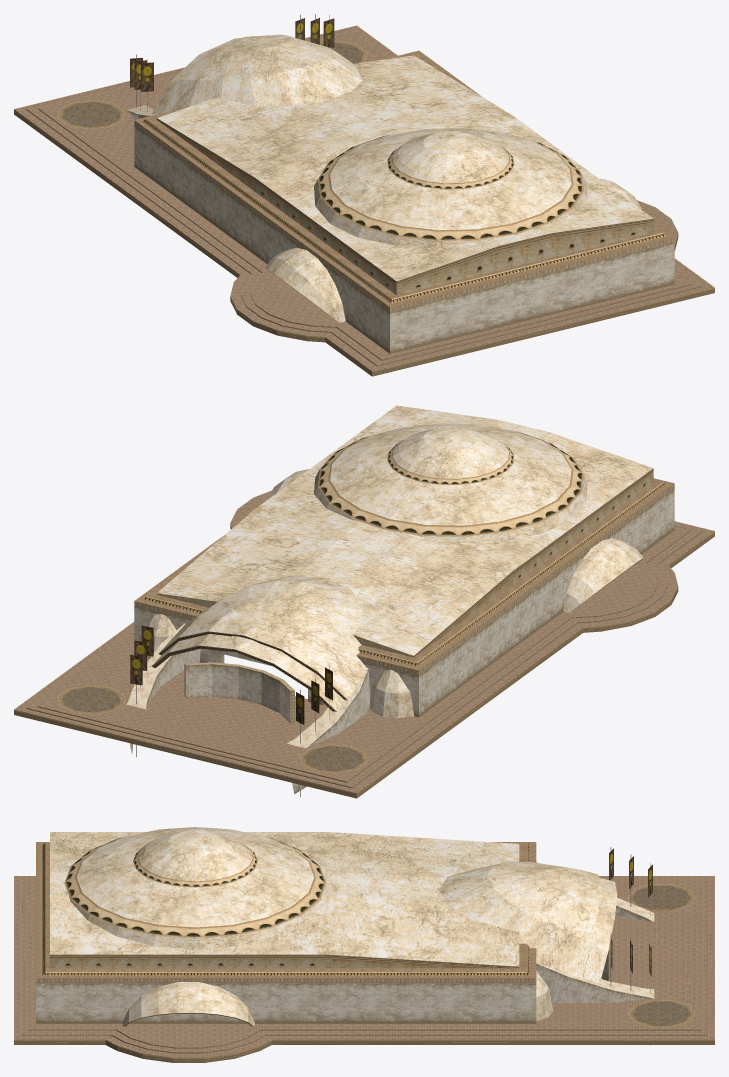
The model's file is mun_tato_guild_theater_s01_r0_mesh_l1.fbx.
3 views of the same model, one above another, from view 1: azimuth 30°, elevation 25°; view 2: azimuth 150°, elevation 25°; view 3: azimuth 270°, elevation 25° (orthographic). The views are drawn at different scales.
Visible parts, largest first — view 1: mesh_node; view 2: mesh_node; view 3: mesh_node.
Boxes of the visible parts, left/top/right/bottom form: mesh_node: left=14, top=14, right=714, bottom=376; mesh_node: left=14, top=405, right=714, bottom=798; mesh_node: left=14, top=827, right=714, bottom=1062.
Bounding box in the file's own units: 81.75 × 32.27 × 121.
